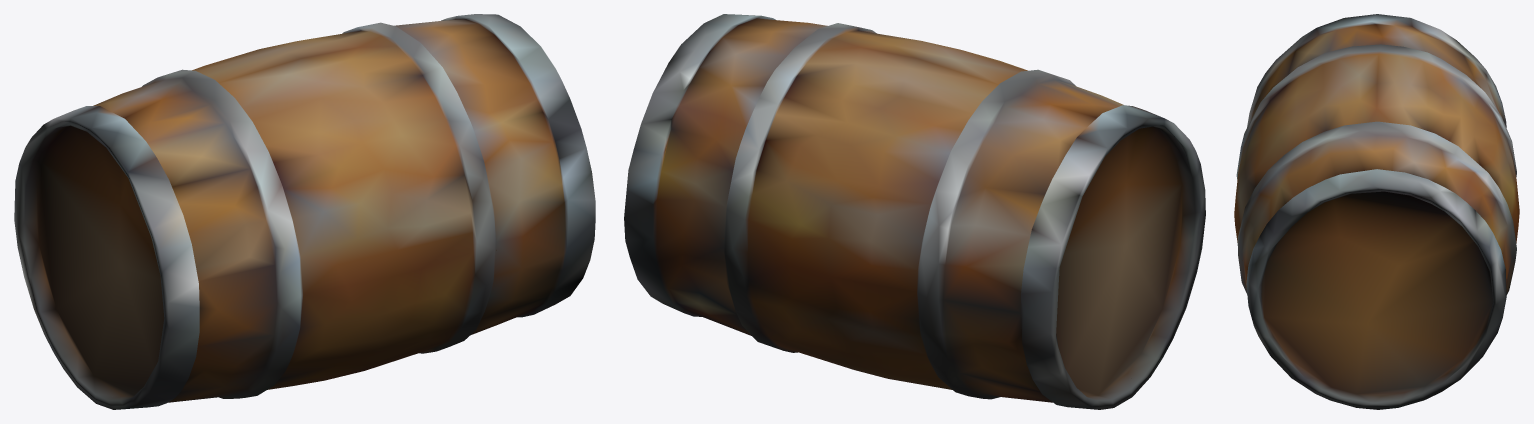
The picture shows the model from 3 angles, left to right: view 1: azimuth 30°, elevation 25°; view 2: azimuth 150°, elevation 25°; view 3: azimuth 270°, elevation 25°; orthographic projection. The views are drawn at different scales.
Visible parts, largest first — view 1: barrel-oak-edge; view 2: barrel-oak-edge; view 3: barrel-oak-edge.
Part boxes in pixels (x1,y1,x2,y2): barrel-oak-edge: (14,14,595,409); barrel-oak-edge: (624,14,1205,409); barrel-oak-edge: (1234,14,1519,409).
Bounding box in the file's own units: 1.31 × 0.9016 × 0.9186.
